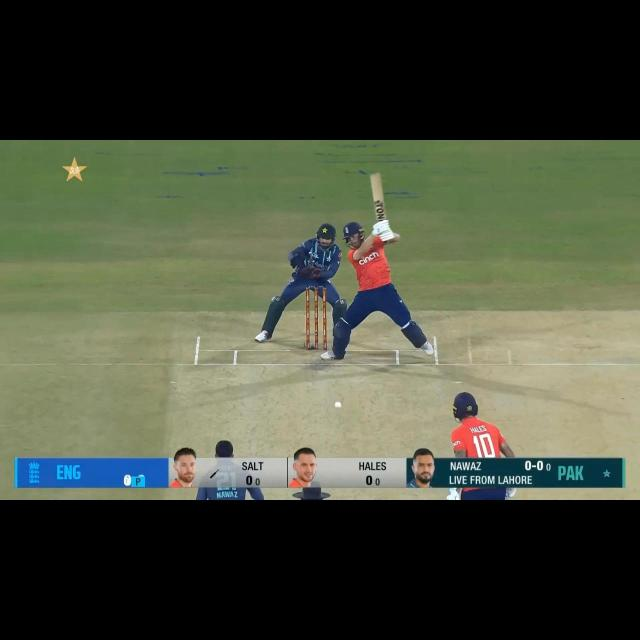bat: (366, 173, 388, 222)
toe: (369, 172, 381, 180)
